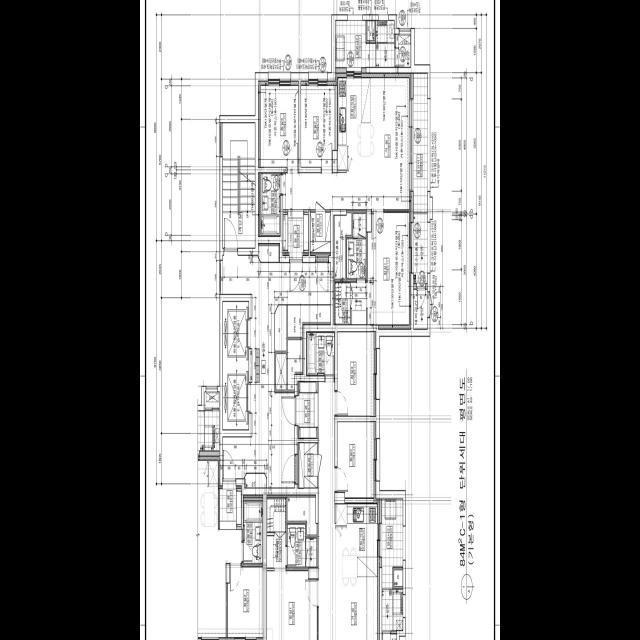background: (140, 0, 500, 640)
space_balconi: (382, 499, 403, 630), (414, 73, 427, 283), (336, 20, 394, 67)
space_bedroom: (368, 212, 411, 328), (267, 570, 317, 640), (258, 81, 298, 166), (337, 331, 376, 415), (337, 421, 376, 497), (301, 81, 335, 167)
space_dressroom: (334, 282, 368, 324), (267, 495, 286, 567)
space_elevator: (223, 301, 249, 366), (223, 365, 249, 429)
space_elevator_hall: (221, 250, 330, 487)
space_front: (283, 209, 309, 259), (296, 381, 318, 438)
space_kitchen: (335, 72, 371, 169), (335, 499, 379, 576)
space_living_room: (283, 73, 411, 209), (318, 381, 379, 640)
space_other: (288, 305, 330, 336), (287, 495, 317, 534), (334, 212, 351, 278), (310, 212, 330, 255), (298, 442, 317, 487), (288, 339, 303, 389), (414, 289, 427, 328), (275, 305, 286, 350), (258, 243, 280, 261), (276, 353, 286, 389), (245, 473, 266, 487), (394, 569, 403, 585), (367, 20, 374, 40)
space_outdoor_room: (396, 34, 411, 66), (382, 633, 397, 640)
space_staircase: (223, 122, 255, 247)
space_toilet: (287, 523, 317, 567), (347, 212, 366, 278), (306, 332, 335, 375), (261, 172, 280, 235)
